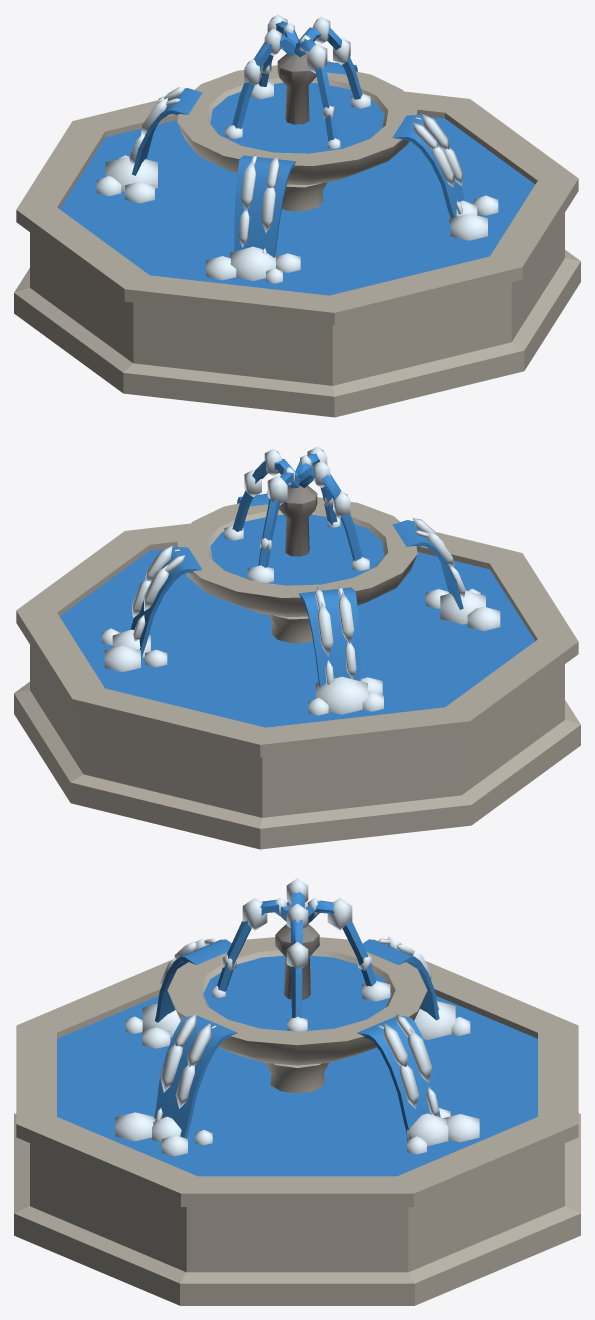
Rendered from animated-garden-fountain.glb.
The picture shows the model from 3 angles, top to bottom: view 1: azimuth 30°, elevation 25°; view 2: azimuth 150°, elevation 25°; view 3: azimuth 270°, elevation 25°; orthographic projection. The views are drawn at different scales.
Visible parts, largest first — view 1: Fountain basin, Fountain water, Fountain bowl, Bowl water, Water foam, Water streaks, Water sheets, Water jets, Fountain finial, Fountain pedestal; view 2: Fountain basin, Fountain water, Fountain bowl, Water foam, Bowl water, Water streaks, Water sheets, Water jets, Fountain finial, Fountain pedestal; view 3: Fountain basin, Fountain water, Fountain bowl, Bowl water, Water sheets, Water streaks, Water foam, Water jets, Fountain pedestal, Fountain finial.
Part boxes in pixels (left/top/right/bottom): Fountain basin: left=14, top=91, right=580, bottom=417; Fountain water: left=60, top=116, right=535, bottom=295; Fountain bowl: left=177, top=65, right=417, bottom=185; Bowl water: left=210, top=82, right=384, bottom=153; Water foam: left=96, top=81, right=498, bottom=283; Water streaks: left=129, top=14, right=462, bottom=254; Water sheets: left=132, top=61, right=465, bottom=257; Water jets: left=232, top=21, right=362, bottom=141; Fountain finial: left=277, top=52, right=316, bottom=124; Fountain pedestal: left=282, top=182, right=326, bottom=211; Fountain basin: left=14, top=523, right=580, bottom=849; Fountain water: left=59, top=548, right=534, bottom=727; Fountain bowl: left=177, top=497, right=417, bottom=617; Water foam: left=102, top=517, right=500, bottom=715; Bowl water: left=210, top=514, right=384, bottom=585; Water streaks: left=132, top=446, right=465, bottom=684; Water sheets: left=130, top=493, right=463, bottom=687; Water jets: left=232, top=453, right=362, bottom=567; Fountain finial: left=279, top=485, right=317, bottom=556; Fountain pedestal: left=268, top=614, right=312, bottom=643; Fountain basin: left=14, top=959, right=580, bottom=1305; Fountain water: left=57, top=996, right=537, bottom=1176; Fountain bowl: left=167, top=937, right=427, bottom=1065; Bowl water: left=203, top=955, right=391, bottom=1030; Water sheets: left=154, top=939, right=440, bottom=1138; Water streaks: left=155, top=878, right=439, bottom=1121; Water foam: left=115, top=981, right=479, bottom=1156; Water jets: left=217, top=891, right=376, bottom=1018; Fountain pedestal: left=266, top=1063, right=328, bottom=1093; Fountain finial: left=275, top=924, right=319, bottom=999.
Bounding box in the file's own units: 2.31 × 1.33 × 2.31.
